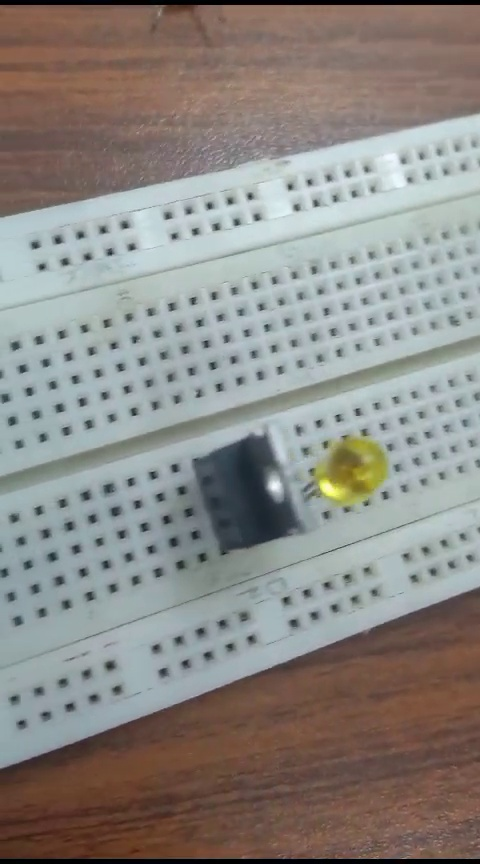LED: (320, 435, 388, 512)
voltage regulator: (191, 427, 303, 555)
